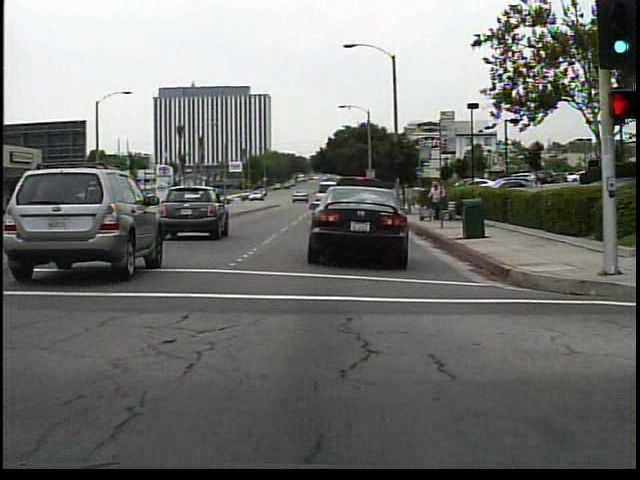person: (424, 179, 447, 224)
